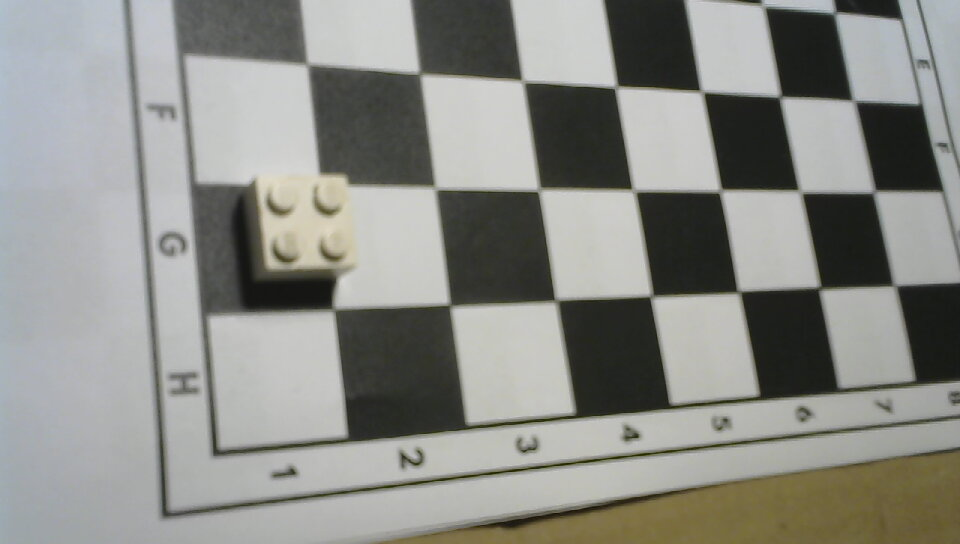wp: (218, 160, 372, 292)
